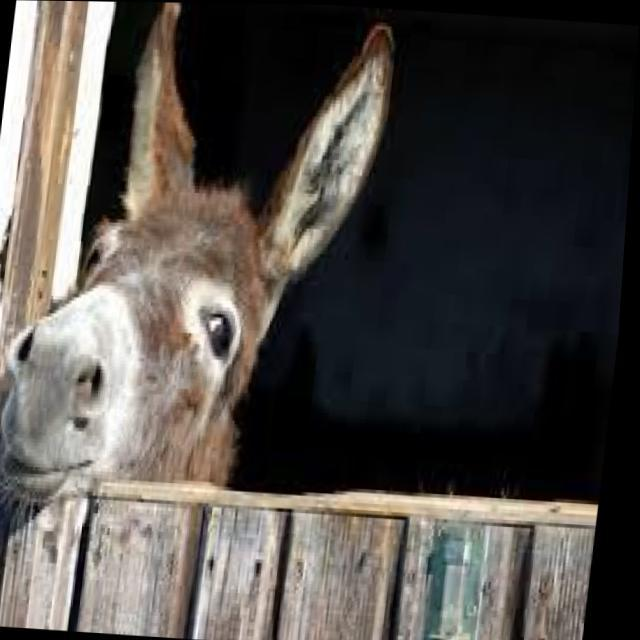Donkey: (0, 0, 423, 612)
